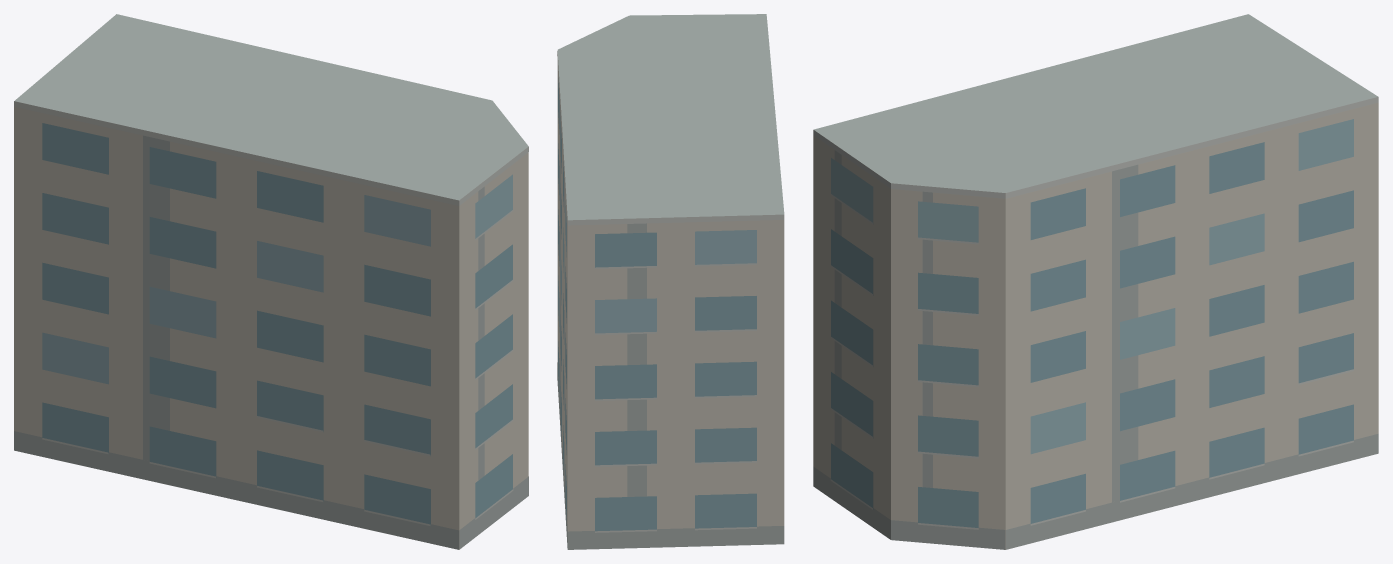
The model's file is survey-upis-33012615.glb.
3 views of the same model, side by side, from view 1: azimuth 30°, elevation 25°; view 2: azimuth 150°, elevation 25°; view 3: azimuth 270°, elevation 25° (orthographic). The views are drawn at different scales.
Parts seen in each view (by area): view 1: survey-upis-33012615.tmp; view 2: survey-upis-33012615.tmp; view 3: survey-upis-33012615.tmp.
Boxes of the visible parts, box(x1,y1,x2,y2) form: survey-upis-33012615.tmp: box(14, 14, 528, 549); survey-upis-33012615.tmp: box(557, 14, 784, 549); survey-upis-33012615.tmp: box(813, 14, 1378, 549).
Size of the model in its own units: 16.37 by 15.2 by 21.83.
